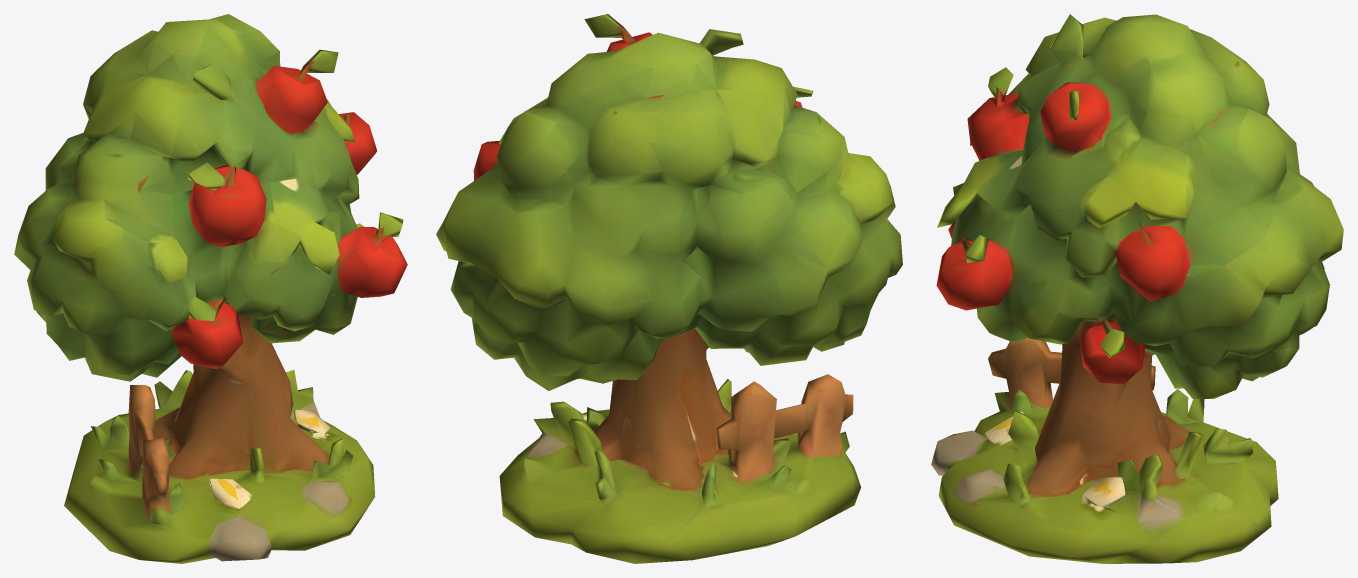
3 renders of one model, left to right at view 1: azimuth 30°, elevation 25°; view 2: azimuth 150°, elevation 25°; view 3: azimuth 270°, elevation 25°, orthographic. The views are drawn at different scales.
Parts seen in each view (by area): view 1: tree-apple; view 2: tree-apple; view 3: tree-apple.
Part boxes in pixels (box(x1,y1,x2,y2)): tree-apple: box(14, 14, 407, 563); tree-apple: box(436, 14, 902, 563); tree-apple: box(931, 14, 1343, 563).
Size of the model in its own units: 3.3 by 4.02 by 3.12.
Materials: 1 (1 with a texture image).
